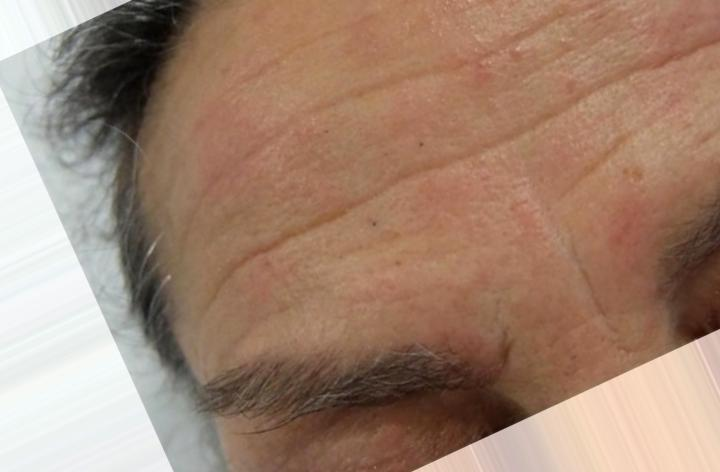Contact Dermatitis: (170, 44, 704, 288)
